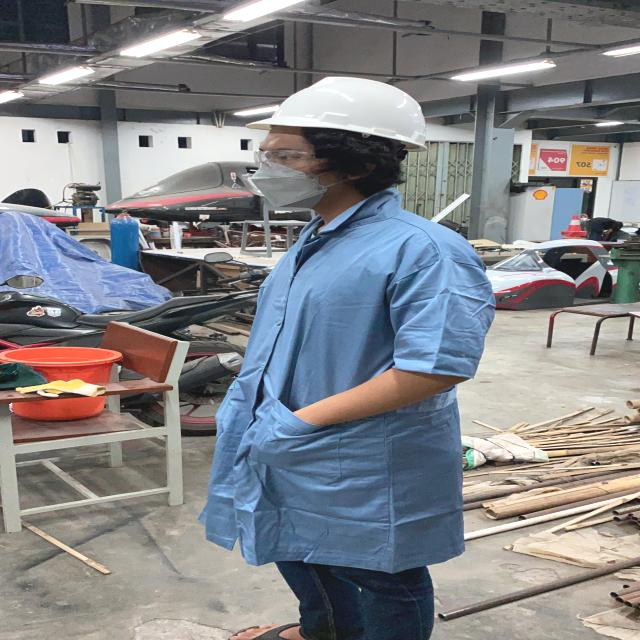face_mask: (241, 142, 336, 212)
glasses: (246, 145, 331, 170)
head_helmet: (249, 74, 431, 142)
person: (162, 75, 500, 640)
